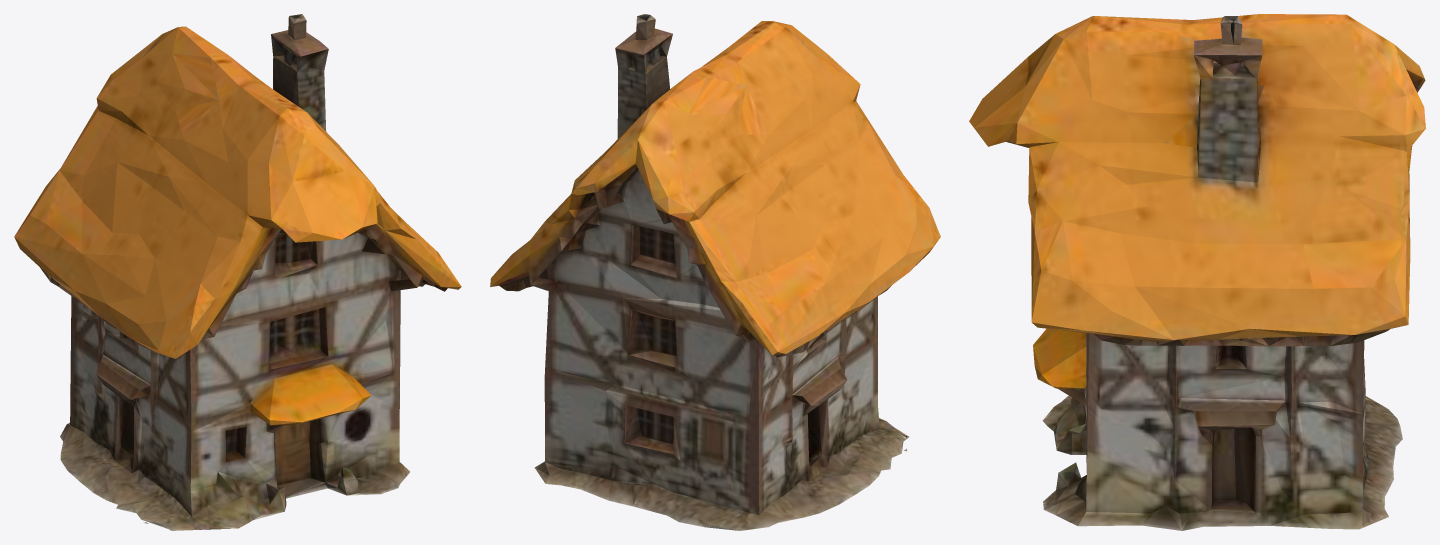
File: house_orange_thatch_lod1.glb
The picture shows the model from 3 angles, left to right: view 1: azimuth 30°, elevation 25°; view 2: azimuth 150°, elevation 25°; view 3: azimuth 270°, elevation 25°; orthographic projection. The views are drawn at different scales.
Parts seen in each view (by area): view 1: house_orange_thatch_lod1; view 2: house_orange_thatch_lod1; view 3: house_orange_thatch_lod1.
Boxes of the visible parts, x1,y1,x2,y2 form: house_orange_thatch_lod1: (14, 14, 461, 530); house_orange_thatch_lod1: (490, 14, 940, 530); house_orange_thatch_lod1: (969, 14, 1425, 530).
Bounding box in the file's own units: 5.16 × 6.98 × 5.98.
1 material, 1 textured.
